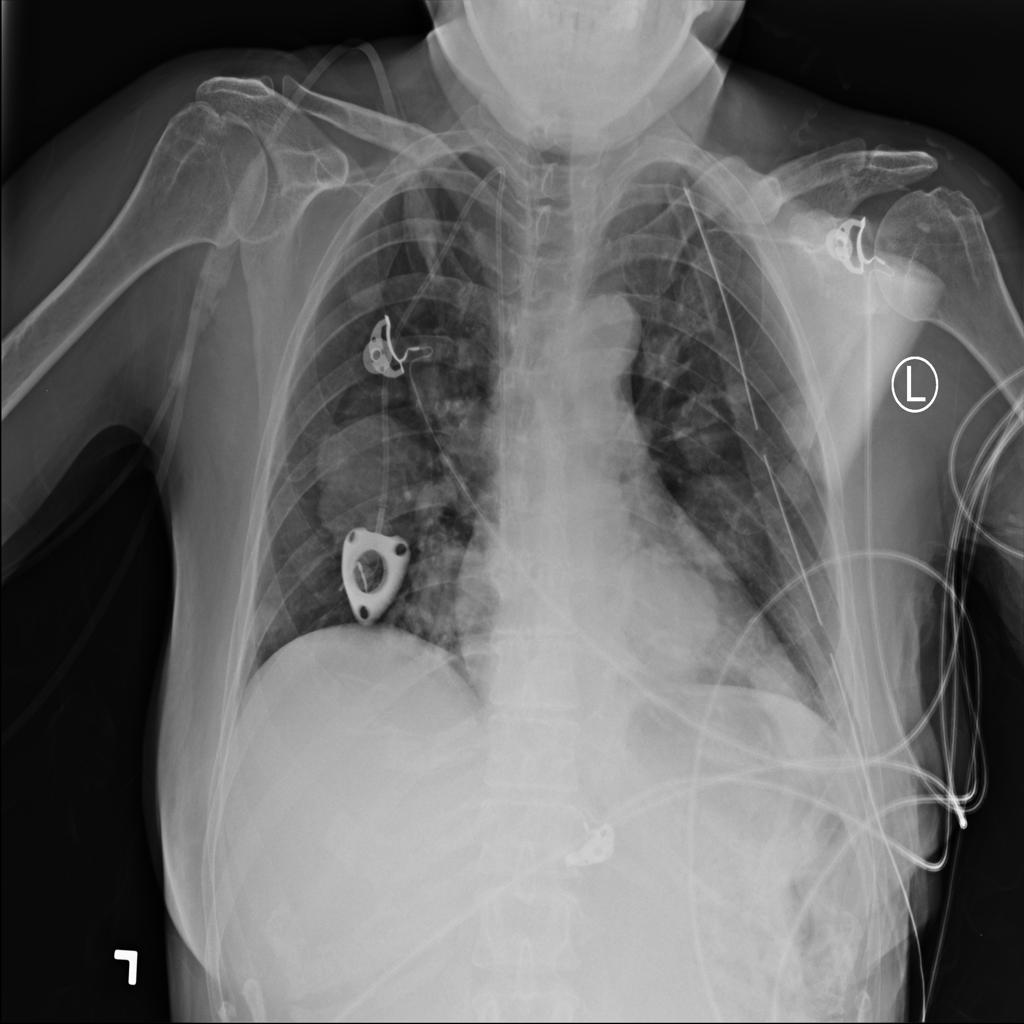nodule: (306, 394, 449, 556), (661, 457, 774, 589), (740, 646, 822, 730), (663, 387, 738, 468), (410, 348, 474, 430), (768, 384, 831, 465), (767, 441, 829, 518)
